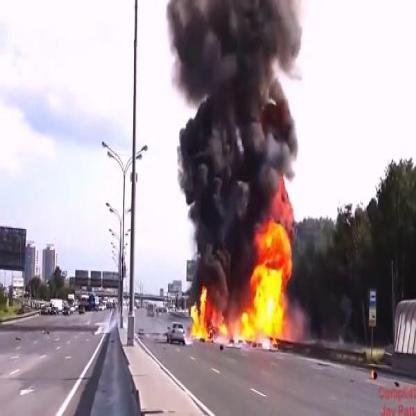fire: (186, 213, 300, 345)
